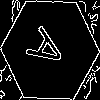A: (25, 25, 75, 79)
